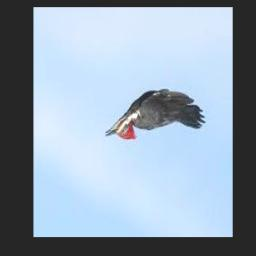Woodpecker: (106, 91, 207, 140)
